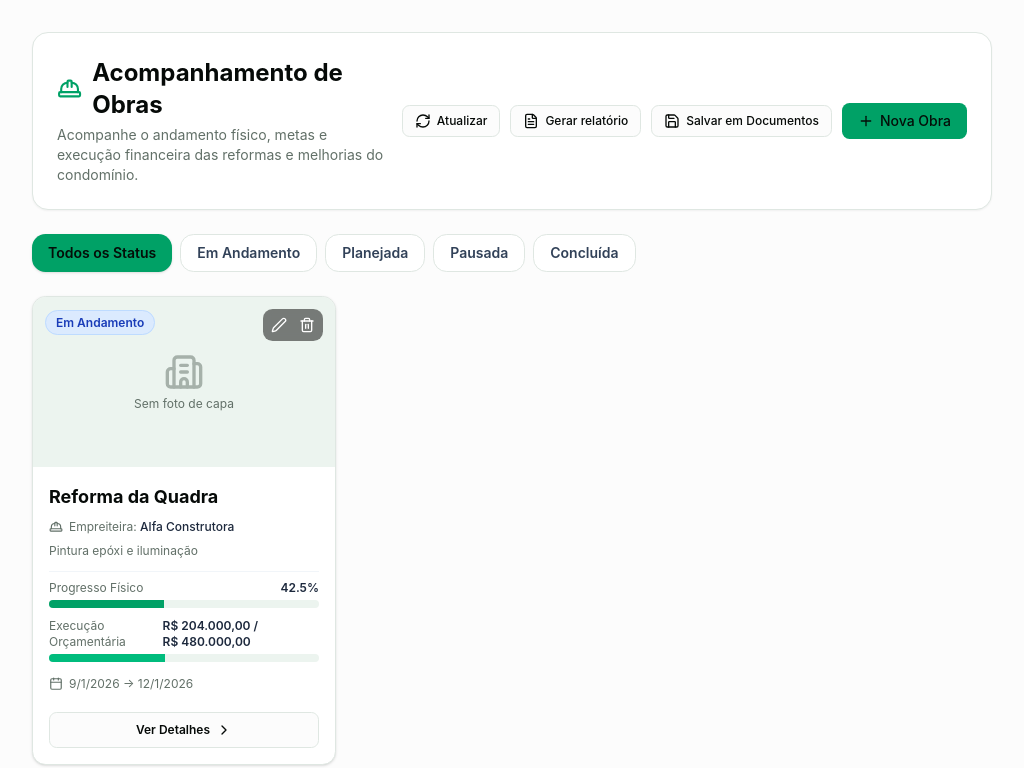
Test: ConstructionTrackerPage report figures › shows the balance cylinder with the detail payload's figures
Click the button "Ver Detalhes": [184, 730] box [49,712,319,748]
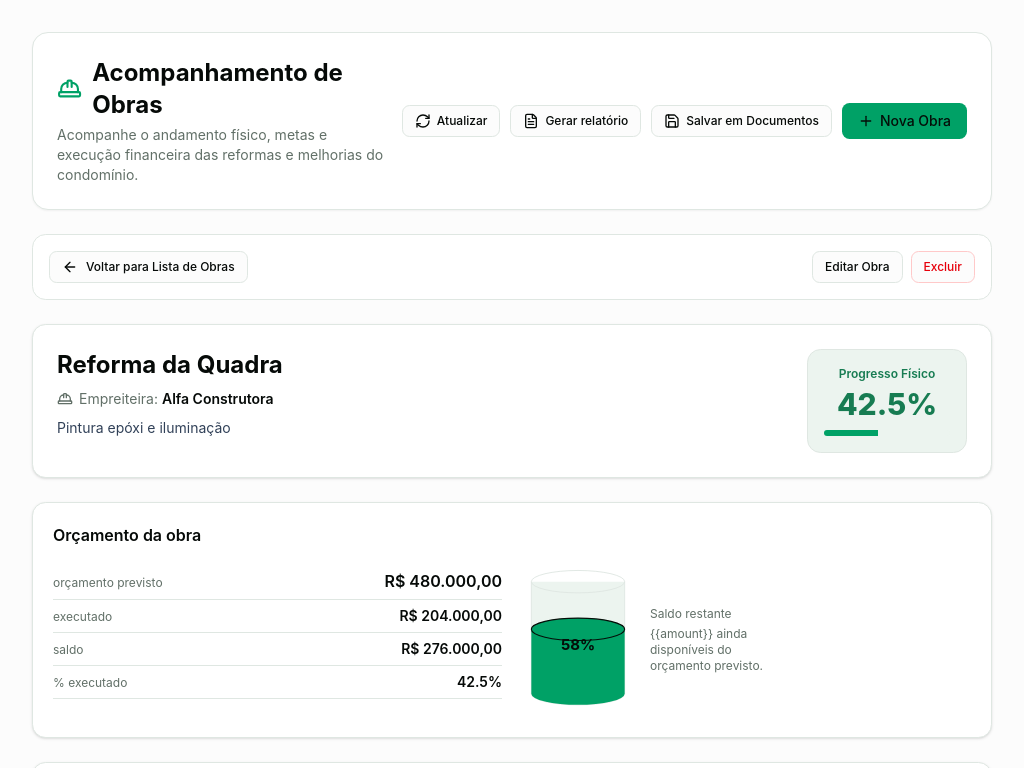
Now the text "Voltar para Lista de Obras" is shown, box [86,259,235,275]
Now the text "42.5%" in the row of "% executado" is shown, box [457,673,502,690]
Now the text "R$ 276.000,00" is shown, box [401,639,502,659]
